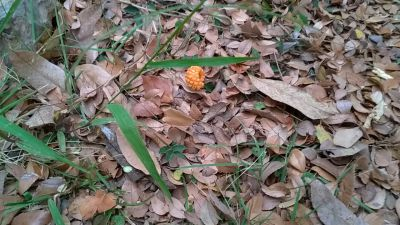eggs: (182, 63, 208, 89)
